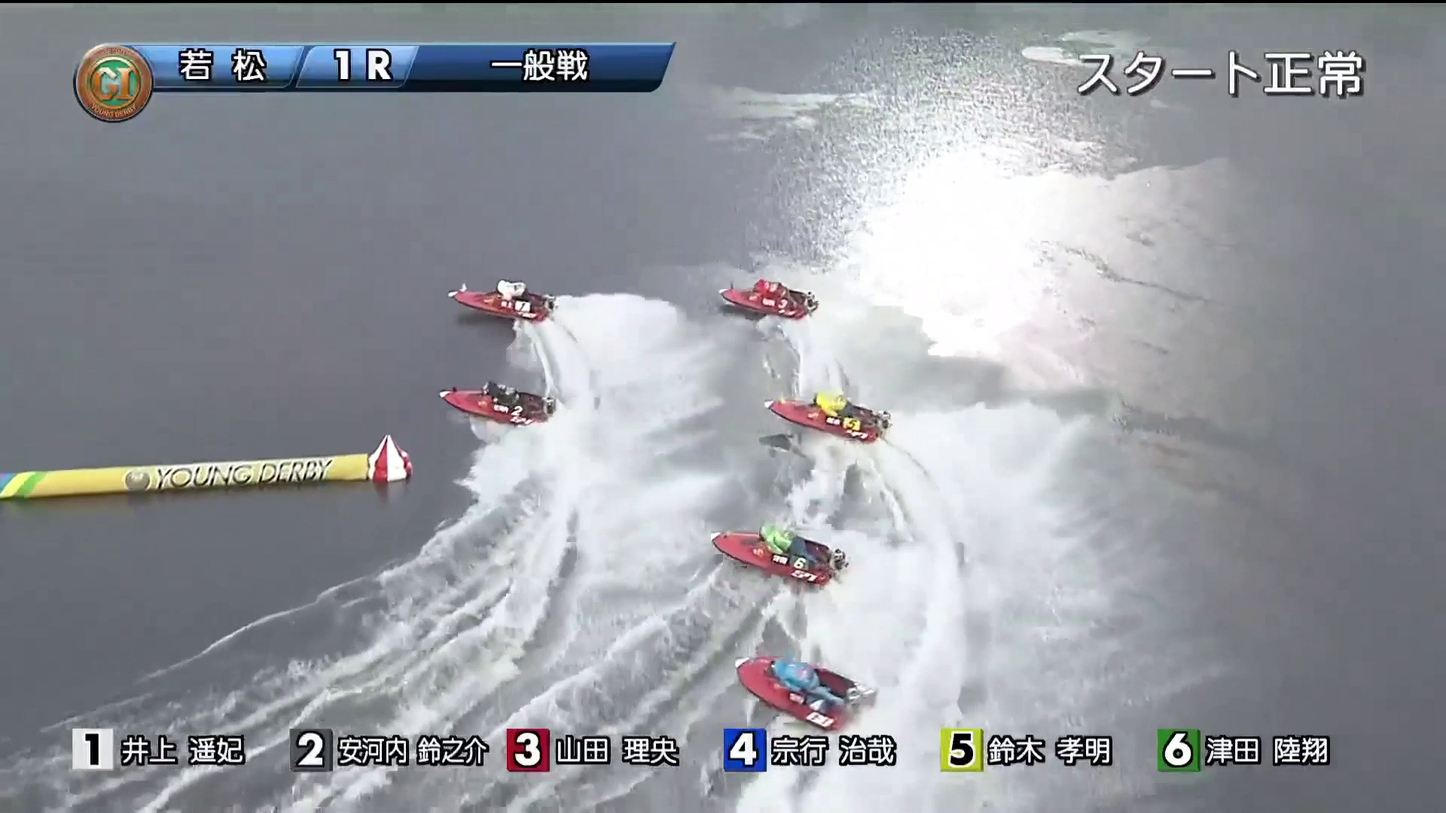１号艇: (469, 289, 539, 342)
２号艇: (431, 372, 560, 432)
３号艇: (716, 278, 813, 325)
４号艇: (713, 524, 847, 589)
５号艇: (741, 661, 865, 716)
６号艇: (767, 367, 867, 448)
